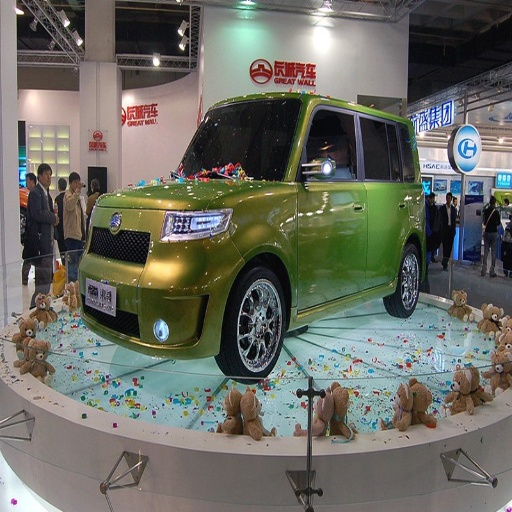front_bumper: (80, 209, 166, 323)
front_glass: (189, 103, 298, 172)
front_left_door: (295, 106, 367, 307)
trunk: (399, 178, 454, 260)
